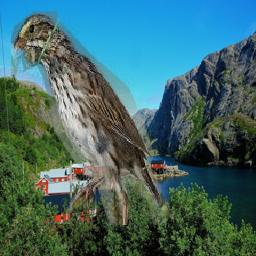Sparrow: (12, 11, 175, 225)
